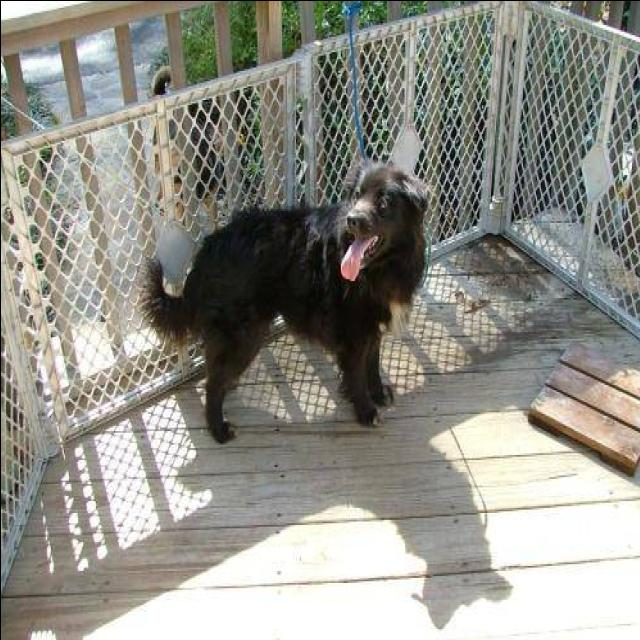dog: (122, 148, 444, 452)
